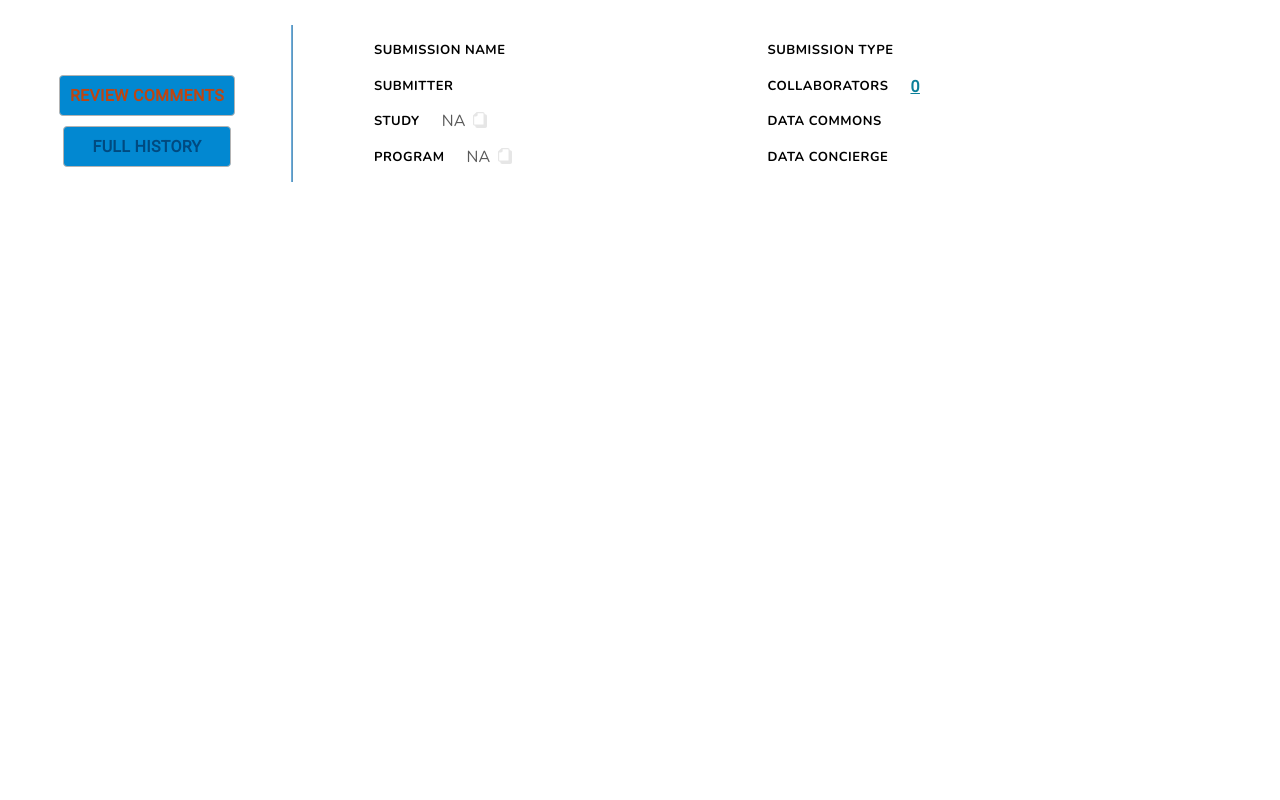
Scenario: DataSubmissionSummary Review Comments Dialog Tests › closes the Review Comments dialog with the close button
The width and height of the screenshot is (1280, 800).
Click the button "Review Comments".
click(147, 96)  # box [59,75,235,116]
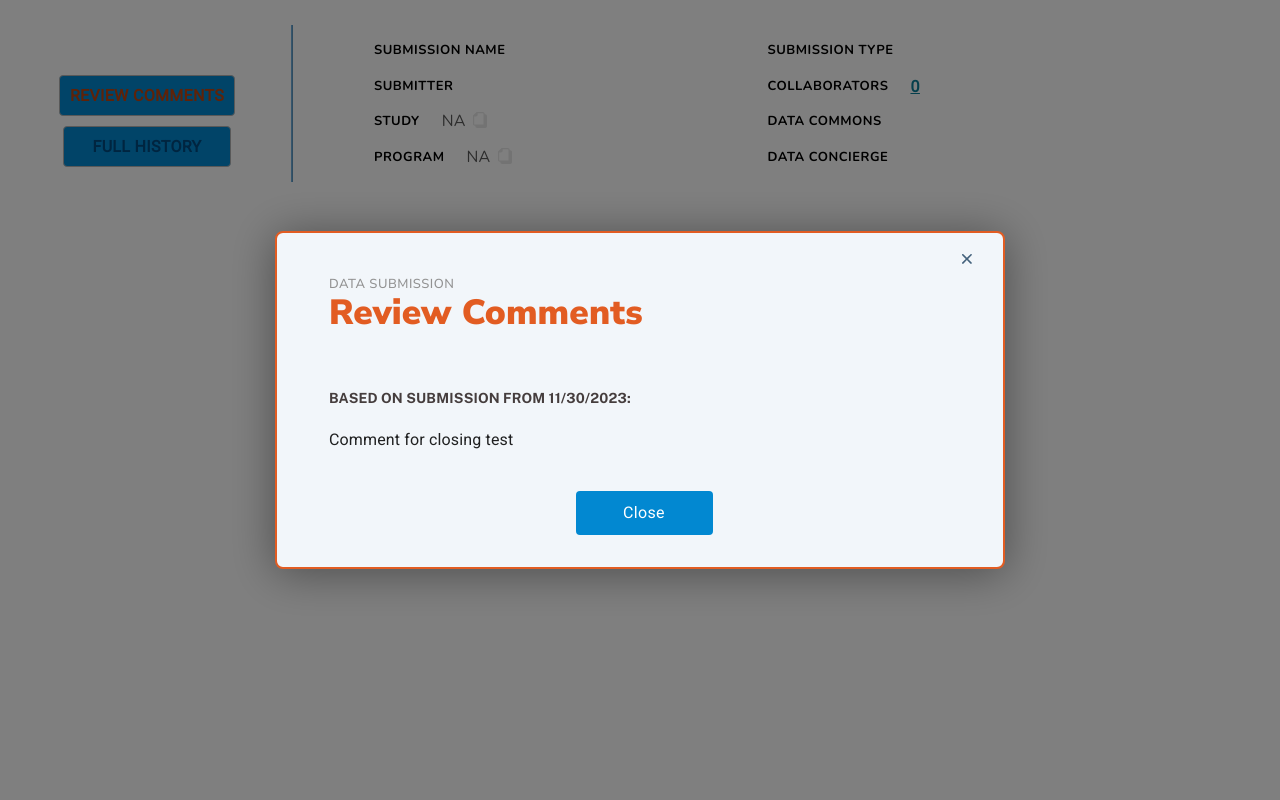
Expected: the text "Comment for closing test" is shown, [329,430,513,449]
Click the button with test id "review-comments-dialog-close".
click(644, 513)  # box [576,491,712,535]
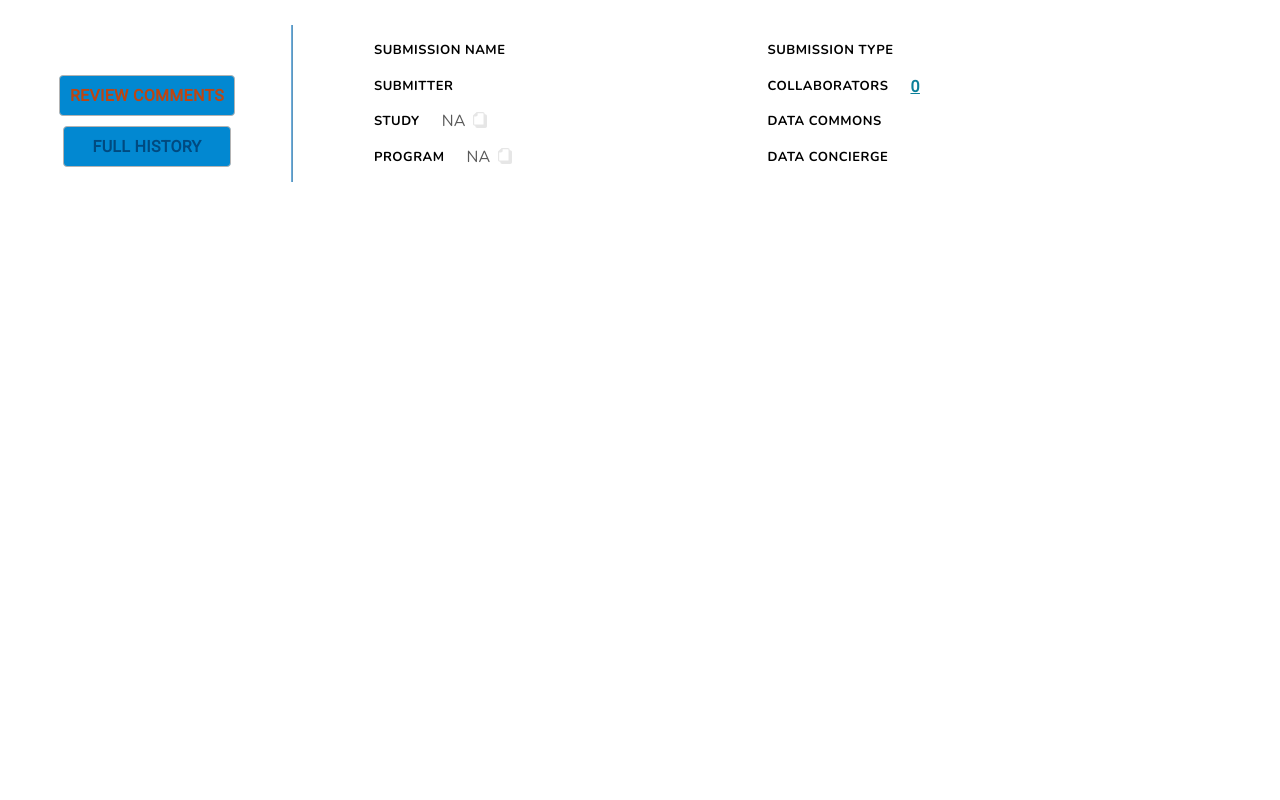
Expected: the text "Comment for closing test" is gone
